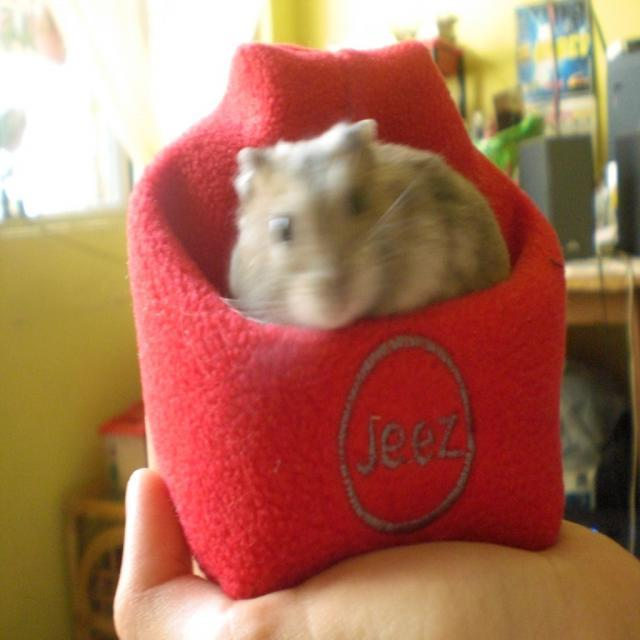rat: (222, 116, 498, 358)
